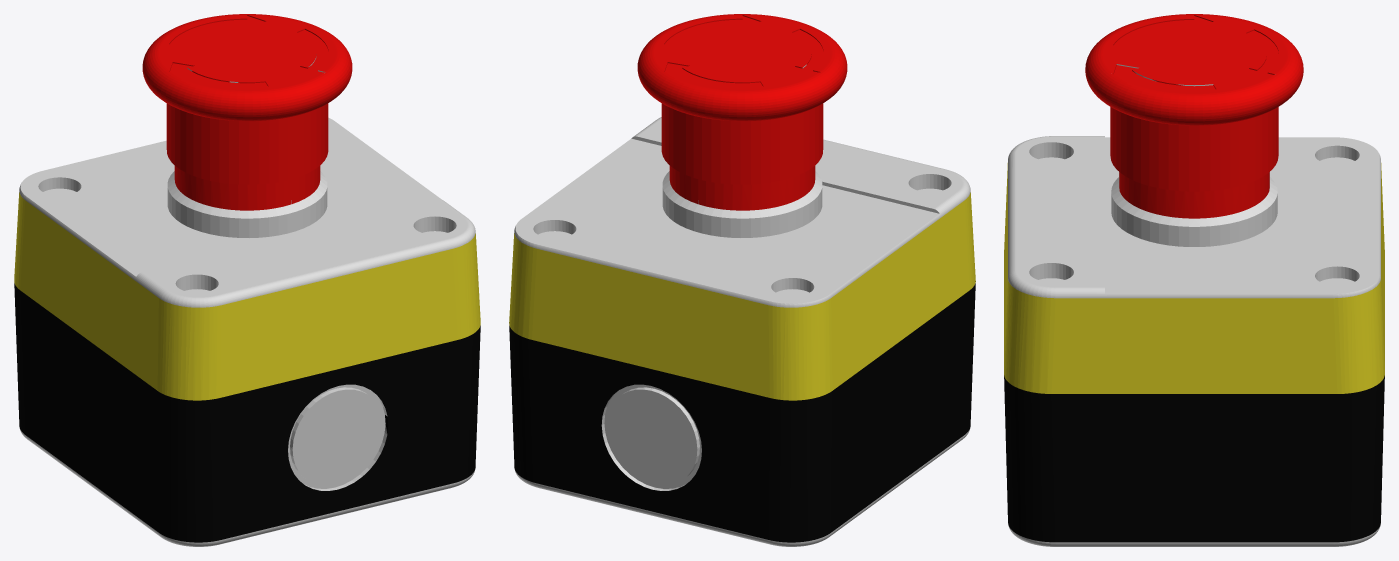
The model's file is r3m_UR3emergencybutton.dae.
The picture shows the model from 3 angles, left to right: view 1: azimuth 30°, elevation 25°; view 2: azimuth 150°, elevation 25°; view 3: azimuth 270°, elevation 25°; orthographic projection. The views are drawn at different scales.
Visible parts, largest first — view 1: node; view 2: node; view 3: node.
Part boxes in pixels (<box>): node: <box>14,14,480,546</box>; node: <box>509,14,975,546</box>; node: <box>1004,14,1384,546</box>.
Bounding box in the file's own units: 0.068 × 0.068 × 0.082.
